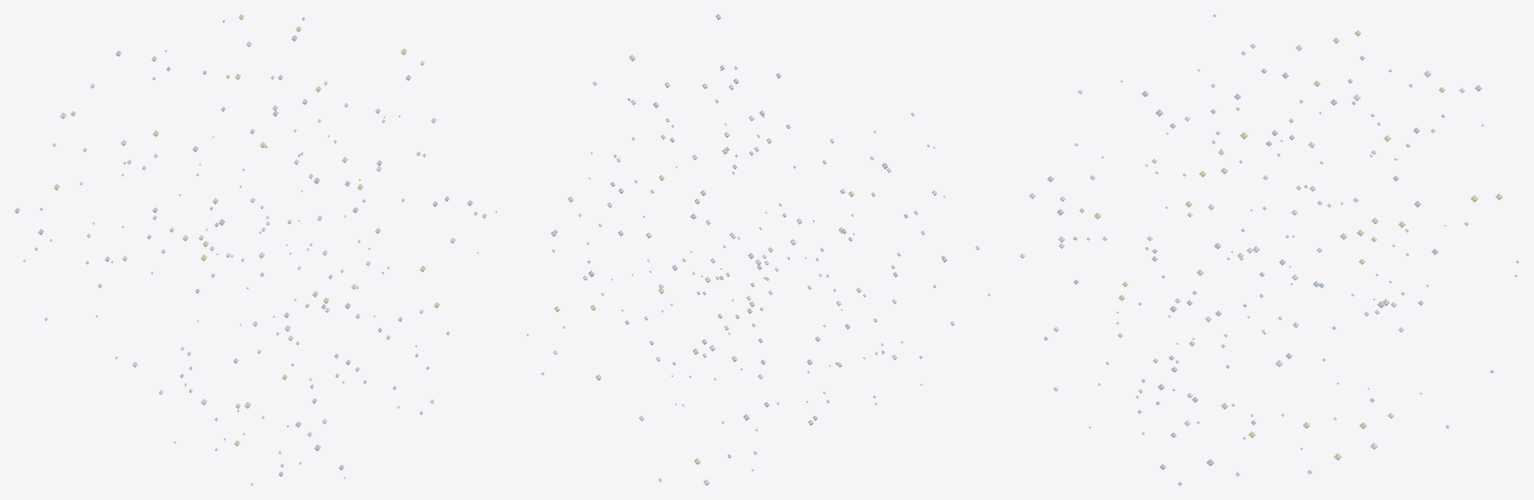
3 views of the same model, side by side, from view 1: azimuth 30°, elevation 25°; view 2: azimuth 150°, elevation 25°; view 3: azimuth 270°, elevation 25° (orthographic). The views are drawn at different scales.
Bounding box in the file's own units: 4.75 × 4.56 × 4.68.
